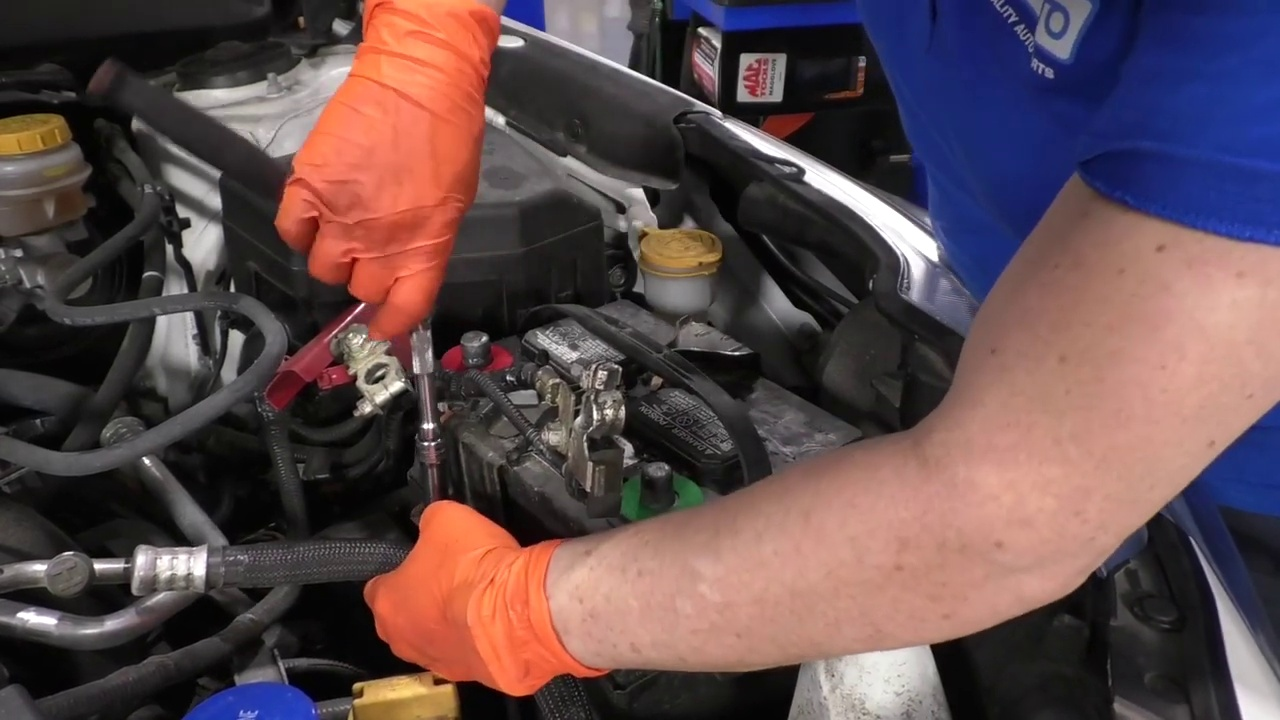battery: (399, 297, 869, 574)
neg_disconnected: (579, 424, 720, 557)
pos_disconnected: (294, 270, 509, 424)
pos_touched: (331, 179, 510, 424)
